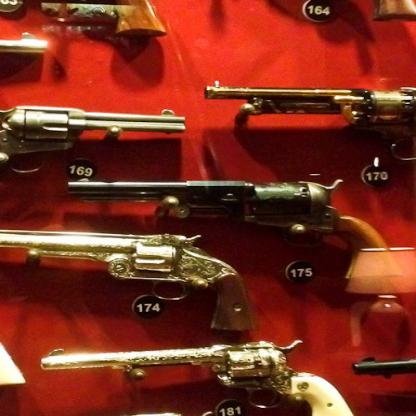gun: (205, 78, 415, 220), (67, 178, 349, 280), (0, 223, 256, 332), (38, 340, 362, 416), (0, 101, 188, 201), (101, 0, 416, 21)
